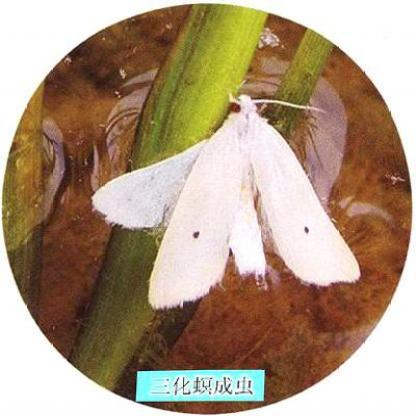stem-borer: (90, 93, 360, 310)
